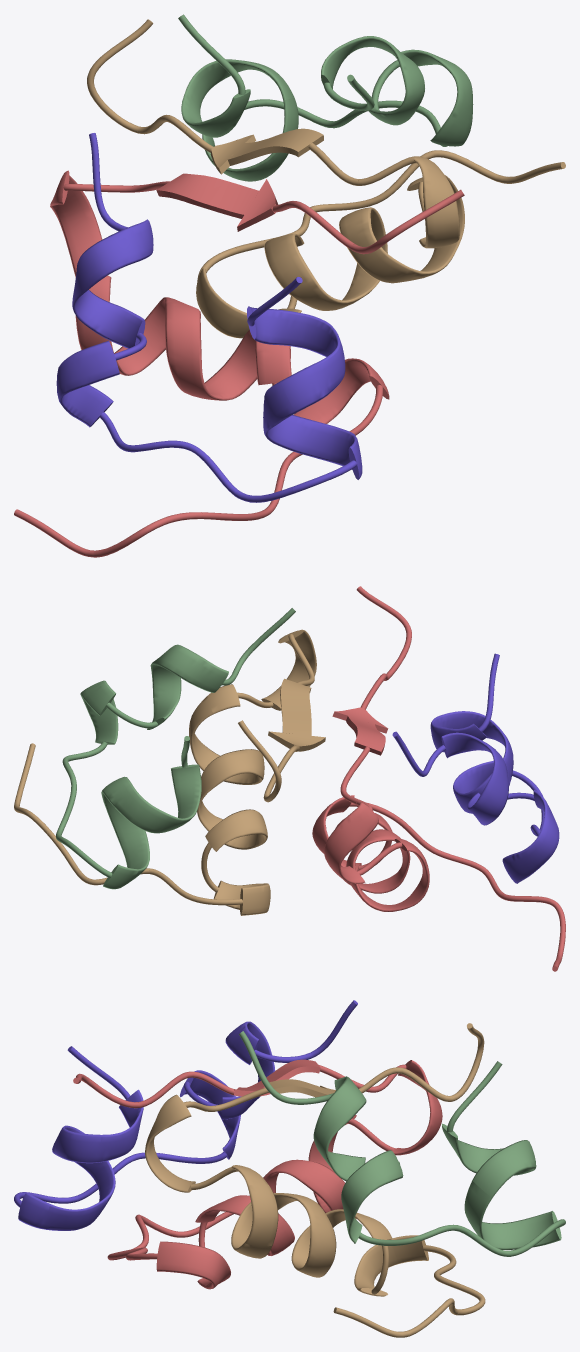
The model's file is 4ins.glb.
3 renders of one model, top to bottom at view 1: azimuth 30°, elevation 25°; view 2: azimuth 150°, elevation 25°; view 3: azimuth 270°, elevation 25°, orthographic. The views are drawn at different scales.
Parts seen in each view (by area): view 1: New_Node; view 2: New_Node; view 3: New_Node.
Boxes of the visible parts, x1,y1,x2,y2 form: New_Node: (14,14,565,557); New_Node: (14,586,565,971); New_Node: (14,1000,565,1337).
Bounding box in the file's own units: 1276490 × 780728 × 1182332.
